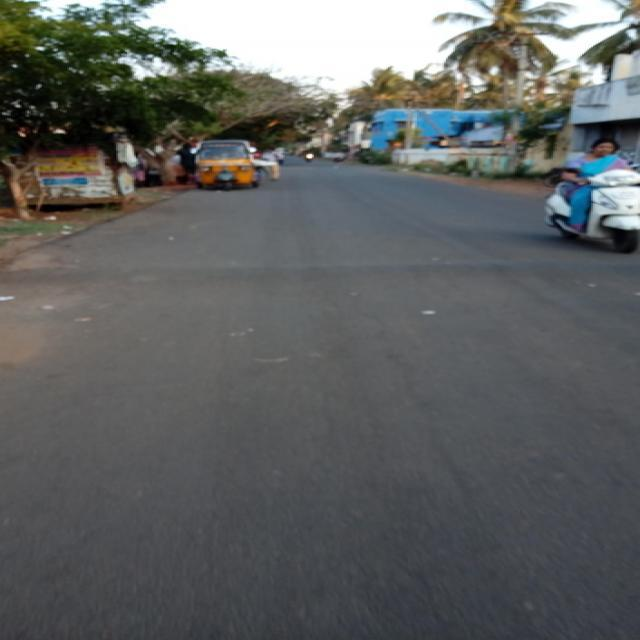NonMarked Bump: (37, 252, 623, 296)
